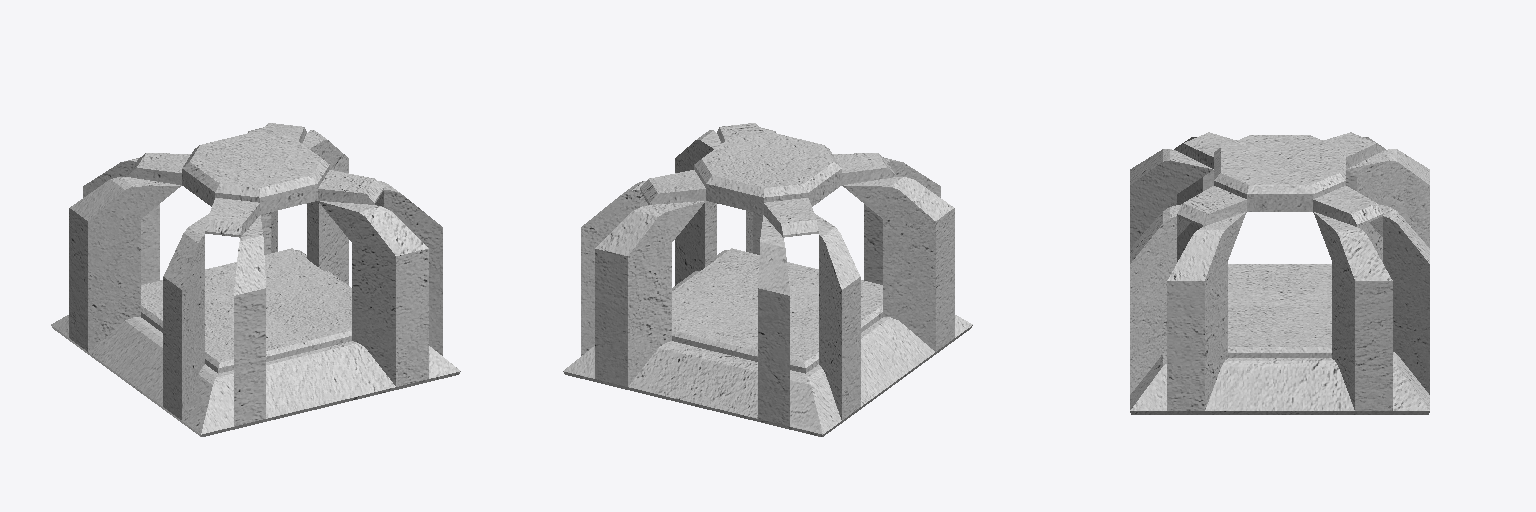
3 views of the same model, side by side, from view 1: azimuth 30°, elevation 25°; view 2: azimuth 150°, elevation 25°; view 3: azimuth 270°, elevation 25° (orthographic).
Visible parts, largest first — view 1: Cube.002; view 2: Cube.002; view 3: Cube.002.
Part boxes in pixels (x1,y1,x2,y2): Cube.002: (51, 123, 460, 436); Cube.002: (563, 123, 972, 436); Cube.002: (1130, 132, 1429, 414).
Bounding box in the file's own units: 6.61 × 4.65 × 6.61.
Materials: 1 (1 with a texture image).